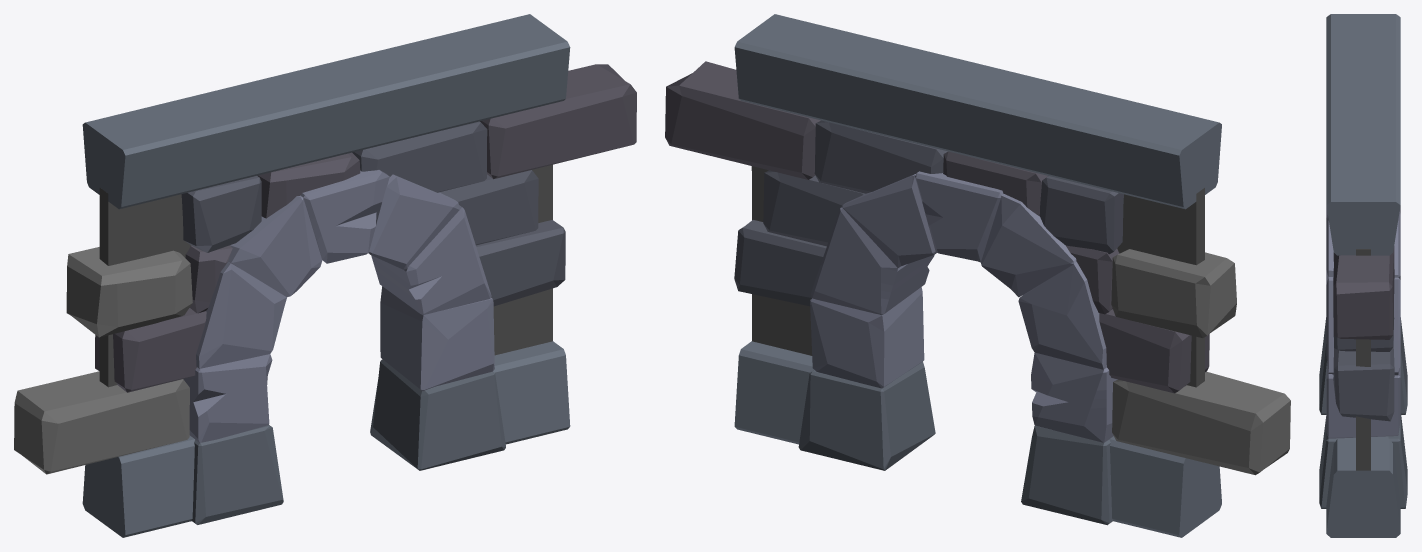
The model's file is Brick_Wall_Door.fbx.
The picture shows the model from 3 angles, left to right: view 1: azimuth 30°, elevation 25°; view 2: azimuth 150°, elevation 25°; view 3: azimuth 270°, elevation 25°; orthographic projection. The views are drawn at different scales.
Visible parts, largest first — view 1: Muro_Puerta_Ladrillo; view 2: Muro_Puerta_Ladrillo; view 3: Muro_Puerta_Ladrillo.
Part boxes in pixels (bbox=[...]): Muro_Puerta_Ladrillo: bbox=[14, 14, 636, 537]; Muro_Puerta_Ladrillo: bbox=[665, 14, 1290, 537]; Muro_Puerta_Ladrillo: bbox=[1319, 14, 1407, 537].
Bounding box in the file's own units: 805 × 500 × 119.
